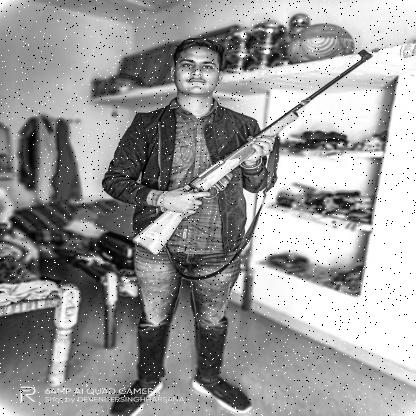rifle: (130, 47, 376, 257)
